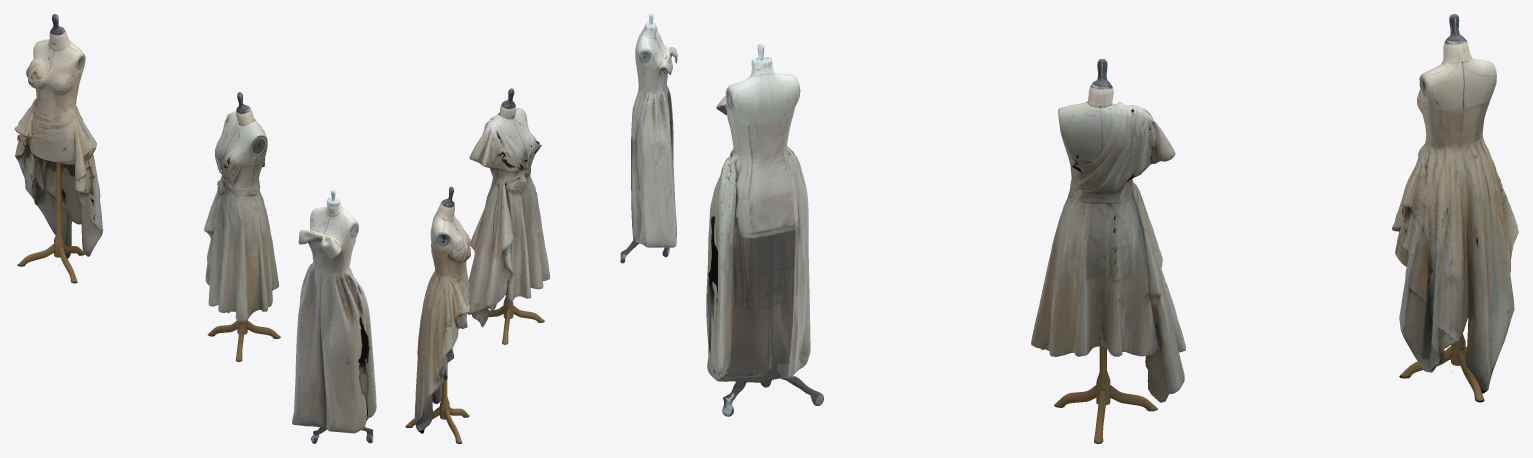
Rendered from Dress_LOD1.glb.
3 views of the same model, side by side, from view 1: azimuth 30°, elevation 25°; view 2: azimuth 150°, elevation 25°; view 3: azimuth 270°, elevation 25° (orthographic). The views are drawn at different scales.
Visible parts, largest first — view 1: Dress_LOD1; view 2: Dress_LOD1; view 3: Dress_LOD1.
Part boxes in pixels (bbox=[...]): Dress_LOD1: bbox=[14, 14, 376, 443]; Dress_LOD1: bbox=[405, 14, 677, 443]; Dress_LOD1: bbox=[706, 14, 1518, 443].
Size of the model in its own units: 1.05 by 2.01 by 4.06.
1 material, 1 textured.
